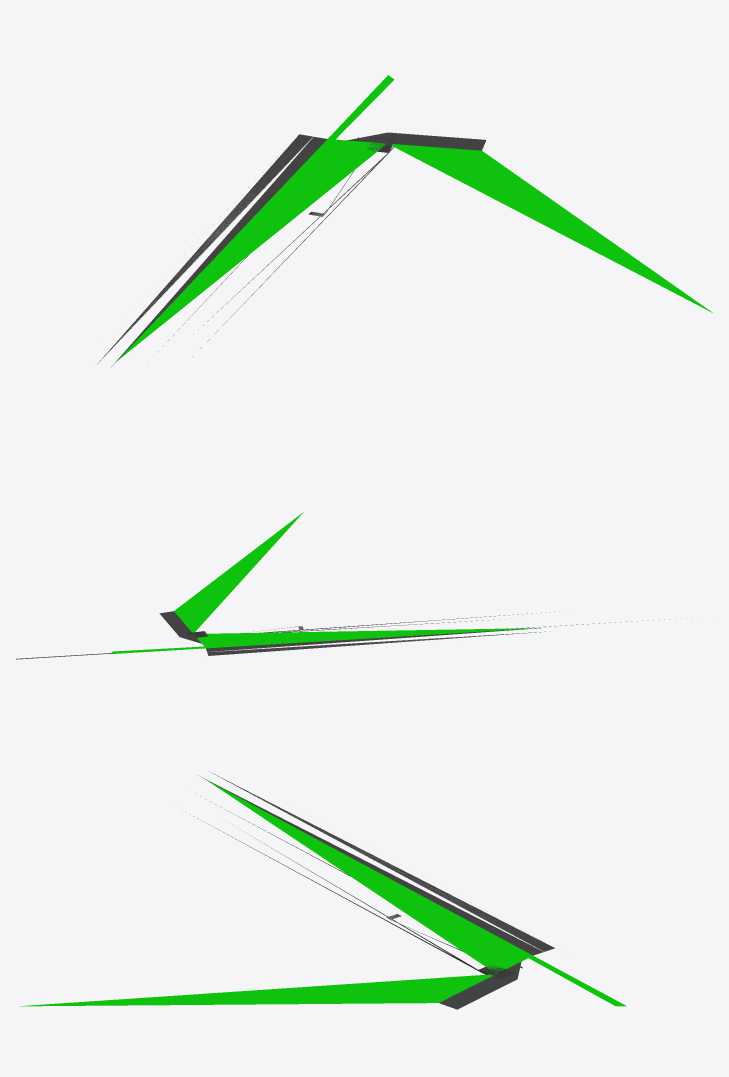
3 renders of one model, top to bottom at view 1: azimuth 30°, elevation 25°; view 2: azimuth 150°, elevation 25°; view 3: azimuth 270°, elevation 25°, orthographic. The views are drawn at different scales.
Size of the model in its own units: 127 by 0.201 by 101.
